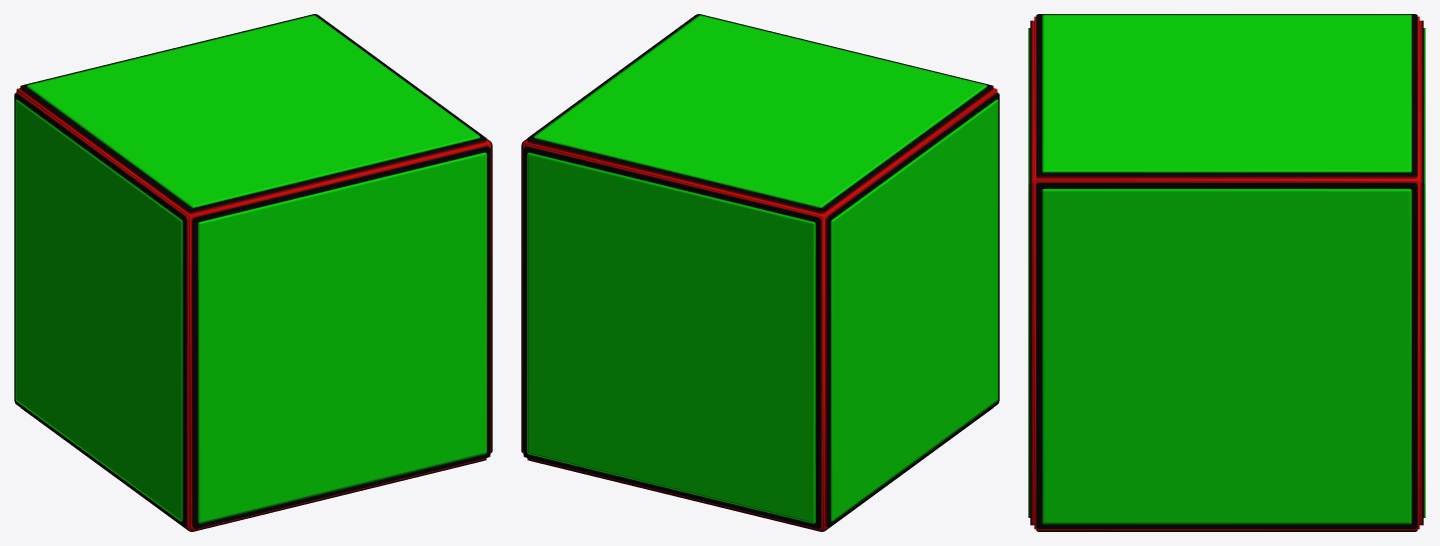
The picture shows the model from 3 angles, left to right: view 1: azimuth 30°, elevation 25°; view 2: azimuth 150°, elevation 25°; view 3: azimuth 270°, elevation 25°; orthographic projection. The views are drawn at different scales.
Parts seen in each view (by area): view 1: SM_Cube_02; view 2: SM_Cube_02; view 3: SM_Cube_02.
Boxes of the visible parts, left/top/right/bottom form: SM_Cube_02: left=14, top=14, right=492, bottom=531; SM_Cube_02: left=521, top=14, right=999, bottom=531; SM_Cube_02: left=1028, top=14, right=1425, bottom=531.
Size of what is drawn, in the model's own units: 99.09 by 99.09 by 99.09.
